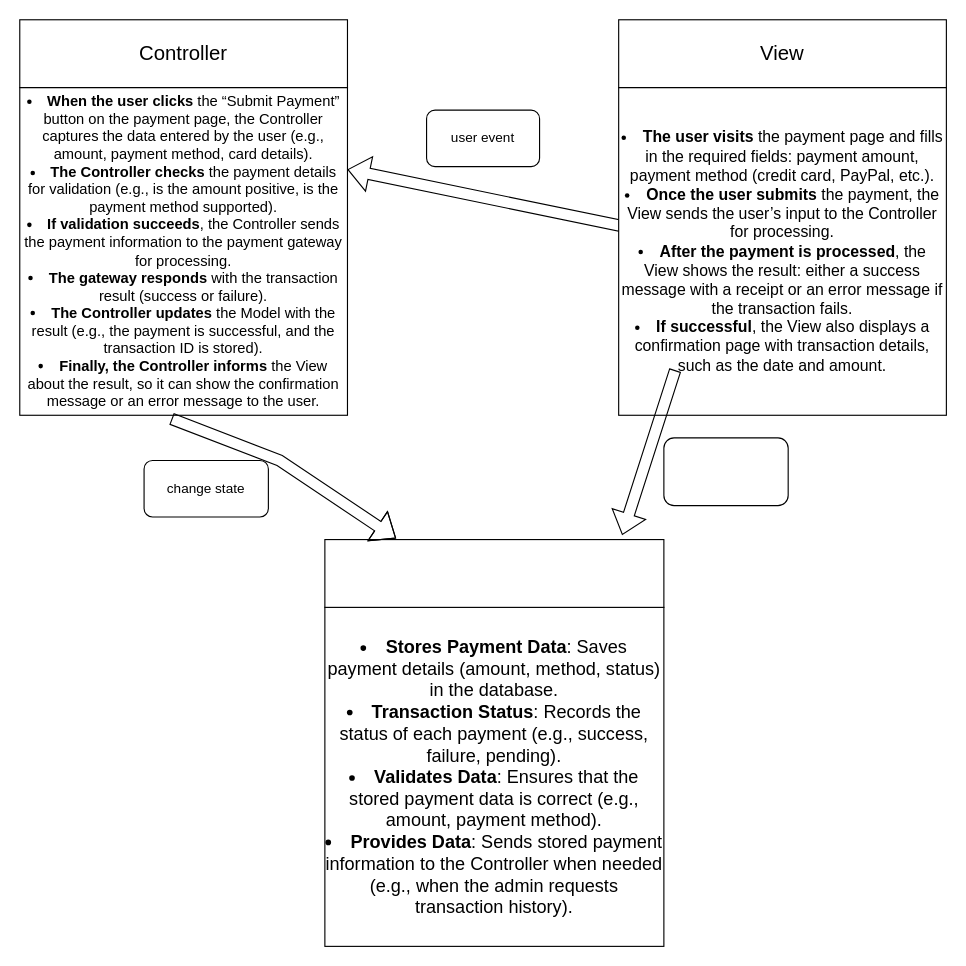
Some shapes in this 966 by 966 pixel diagram are drawn without their labels. The centre of each missing label's shape, as x and y in pixels:
"Model" goes at pixel 494 572.
"update" goes at pixel 725 471.
